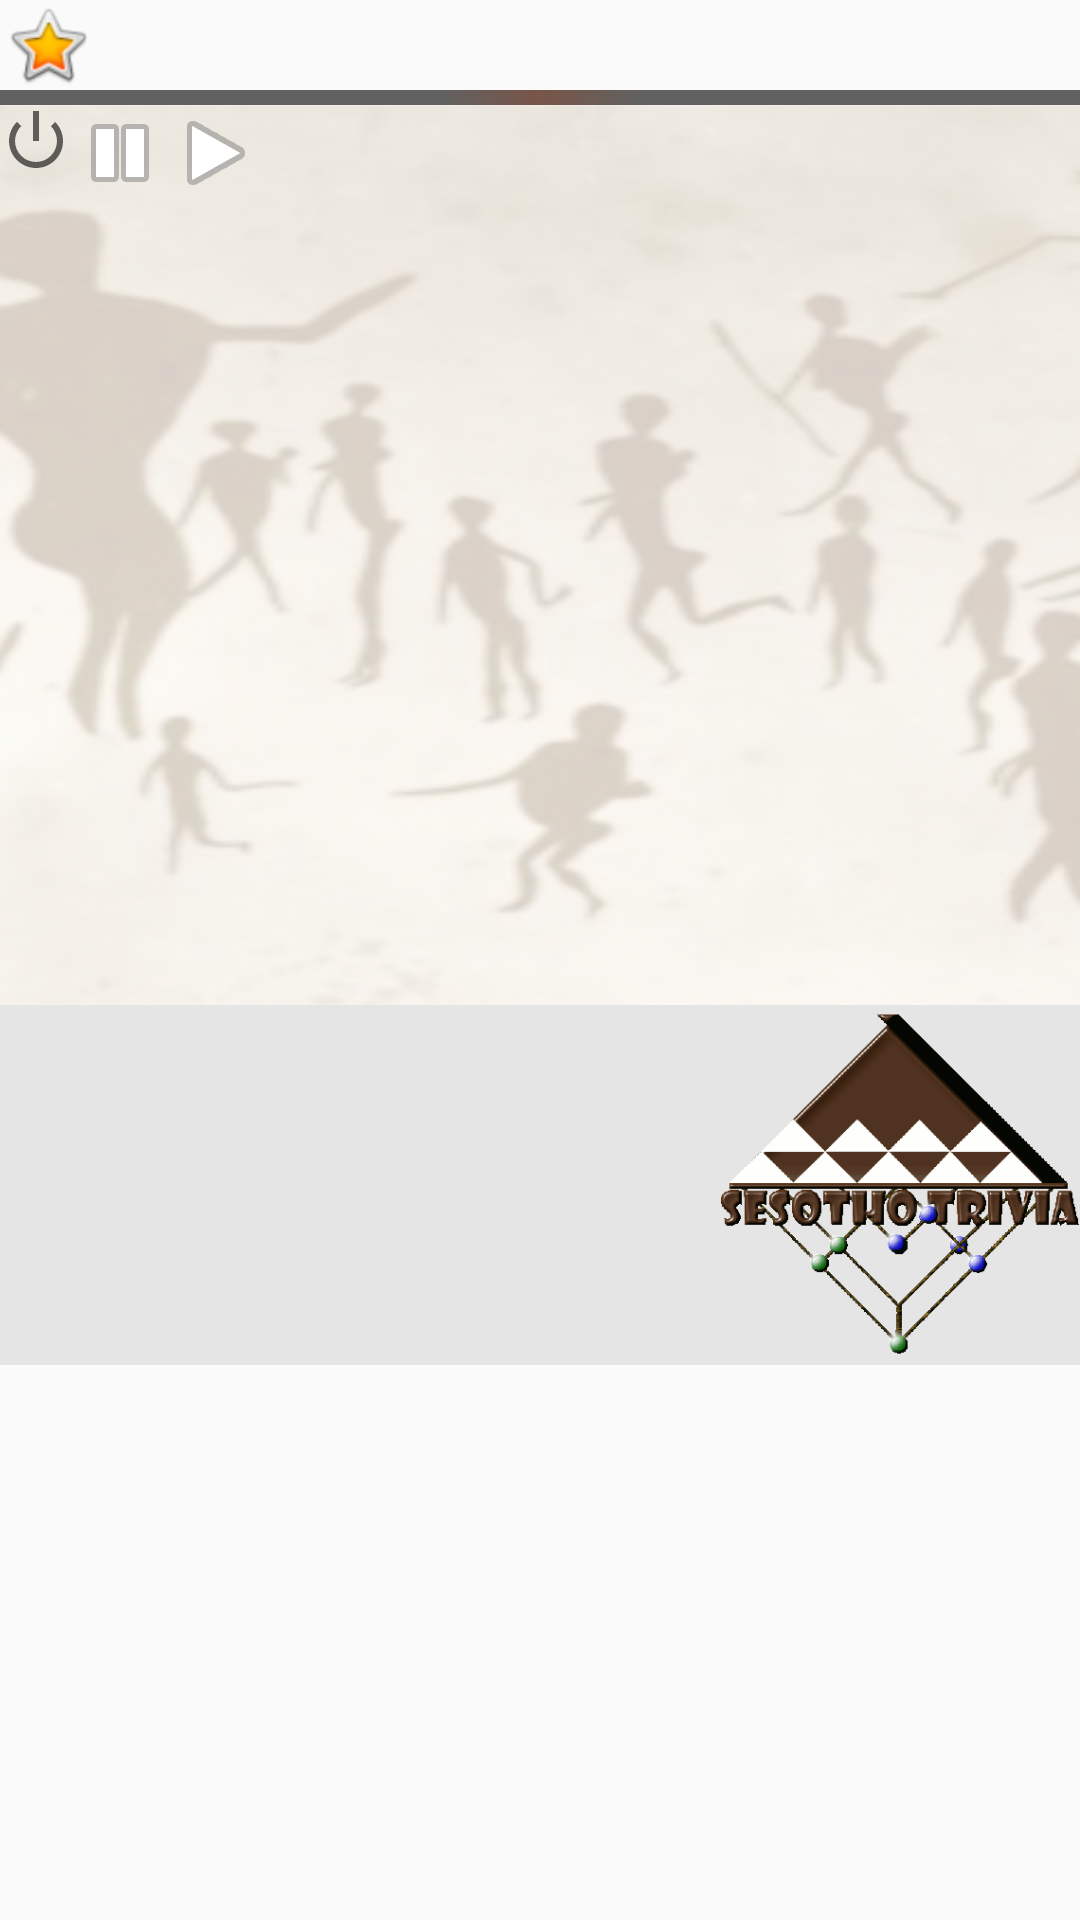

Point at icon controls on the screen. Image size 1080×1920, points as point (x, y).
lock power off: point (36, 139)
pause: point (120, 153)
play: point (216, 153)
star on: point (48, 45)
